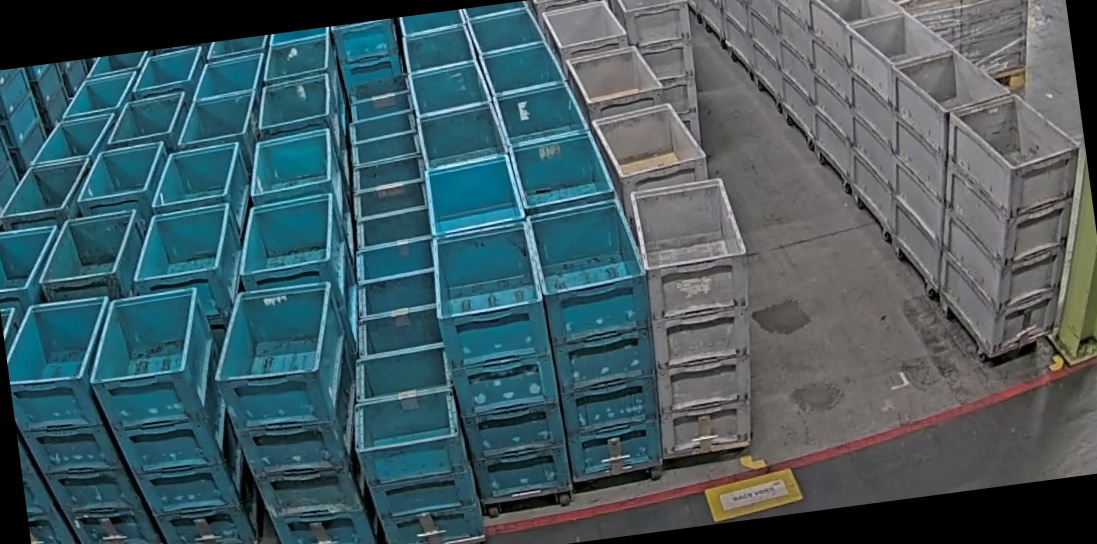4G: (915, 85, 1097, 365), (628, 176, 773, 458)
B4: (81, 277, 268, 544), (203, 278, 382, 544), (424, 221, 571, 505), (0, 293, 163, 544), (527, 197, 671, 481)
B8: (341, 340, 486, 544)
